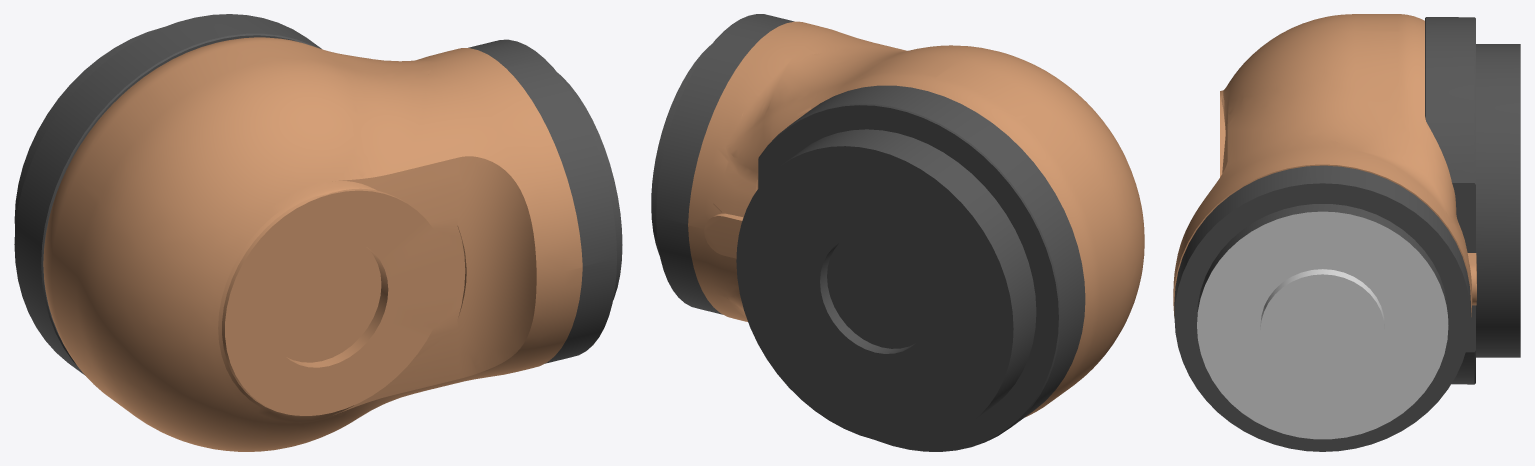
3 views of the same model, side by side, from view 1: azimuth 30°, elevation 25°; view 2: azimuth 150°, elevation 25°; view 3: azimuth 270°, elevation 25° (orthographic). The views are drawn at different scales.
Visible parts, largest first — view 1: link_05; view 2: link_05; view 3: link_05.
Part boxes in pixels (x1,y1,x2,y2): link_05: (14, 14, 622, 451); link_05: (651, 14, 1144, 451); link_05: (1173, 14, 1520, 451).
Bounding box in the file's own units: 0.397 × 0.279 × 0.3.
